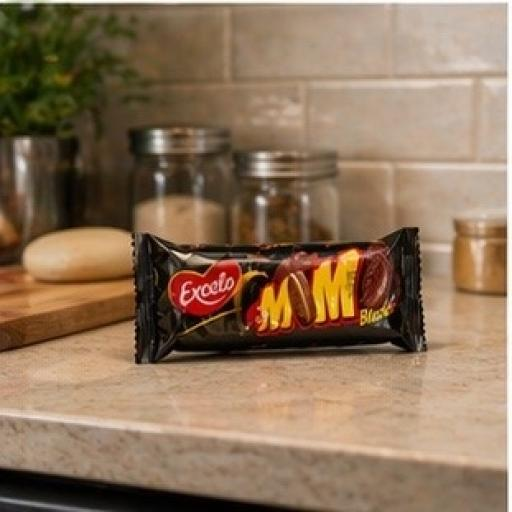MOMO: (74, 169, 451, 411)
